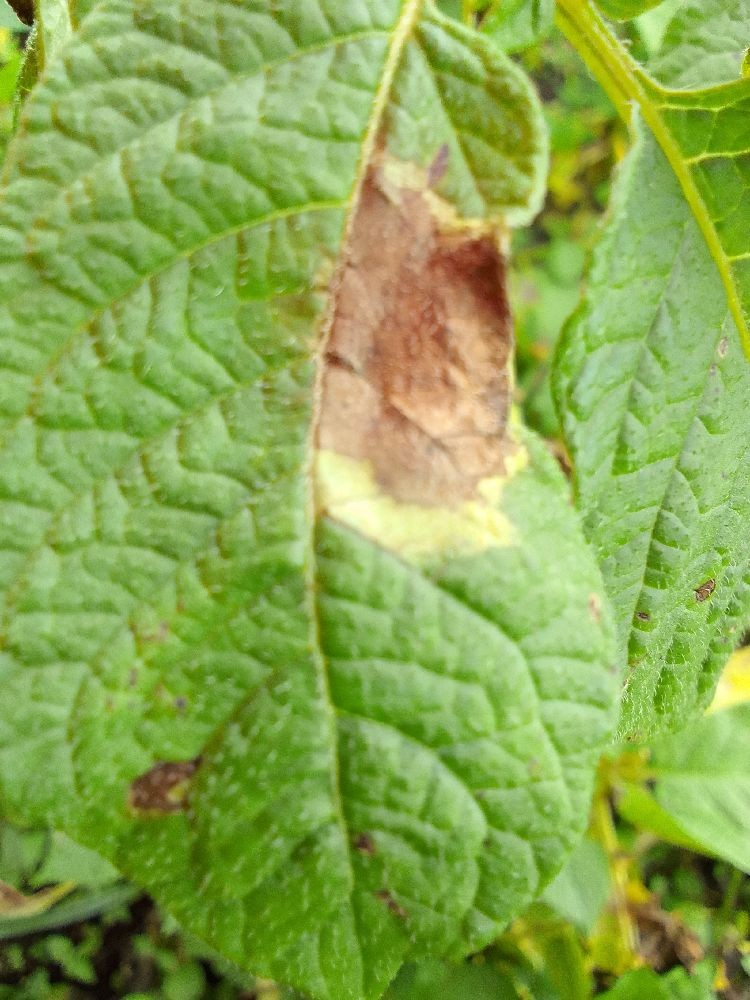late_blight: (274, 94, 565, 537), (587, 821, 750, 1000), (0, 852, 150, 1000), (116, 715, 237, 845)
